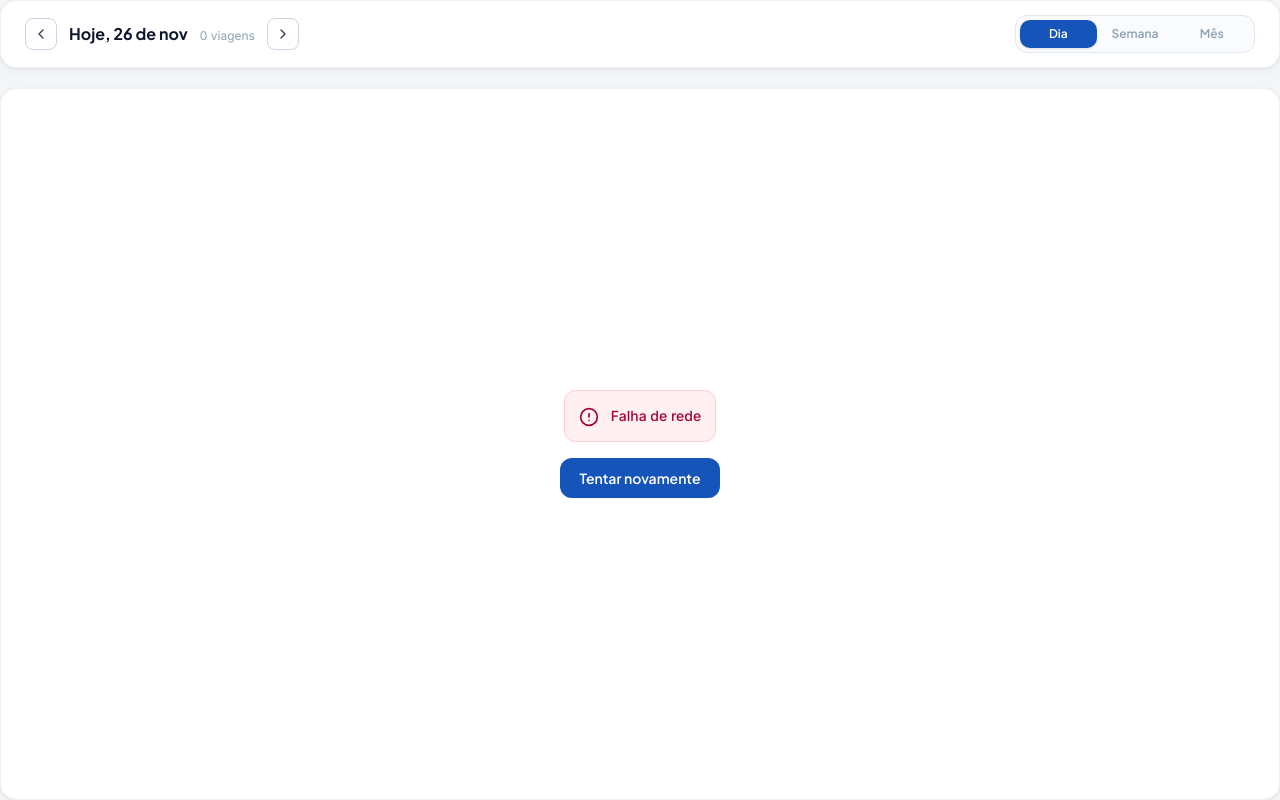
Test: AgendaPage: integração com API, estados e DrawerDetalhesViagem › exibe erro e permite tentar novamente quando a API falhar
The image size is (1280, 800).
Expected: the text "Falha de rede" is shown, [611,405,701,427]
Click the button "Tentar novamente".
click(640, 478)  # box [560,458,720,498]
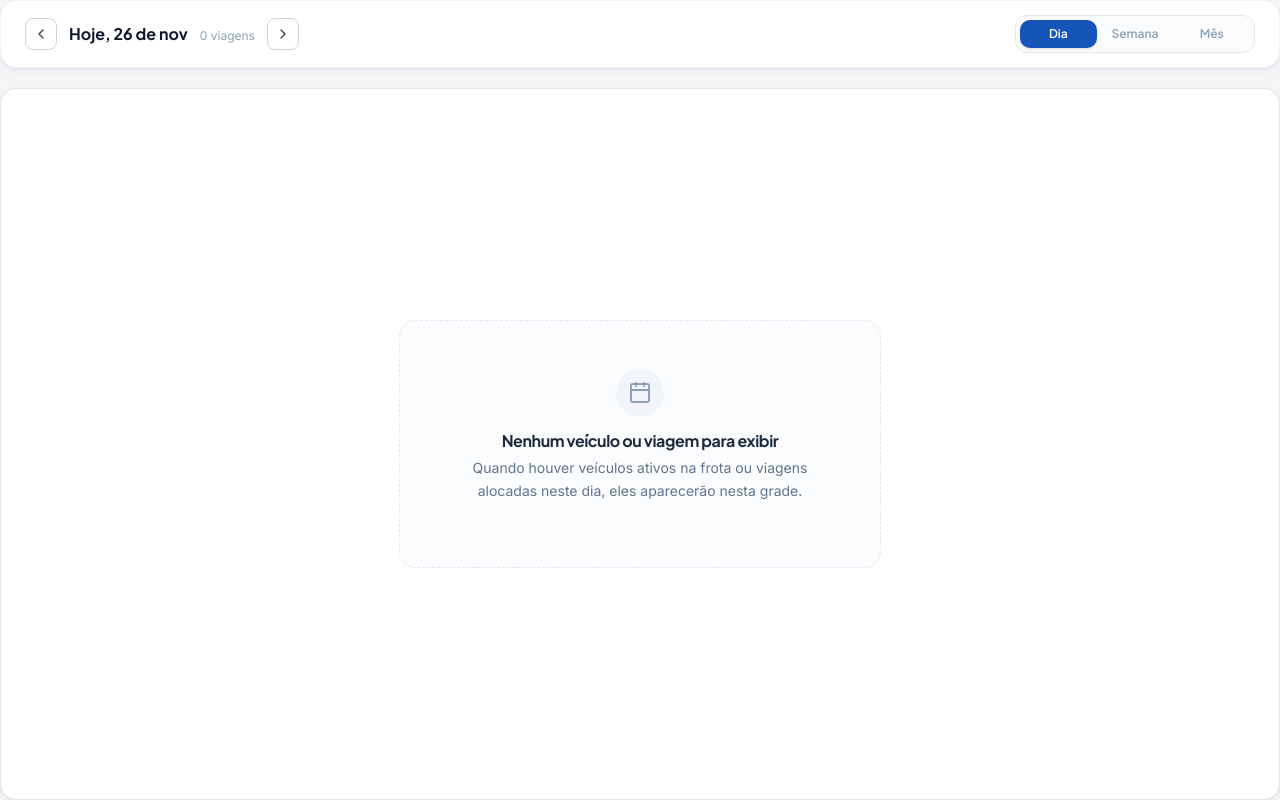
Result: the heading "Nenhum veículo ou viagem para exibir" is shown at [502,429,778,453]
